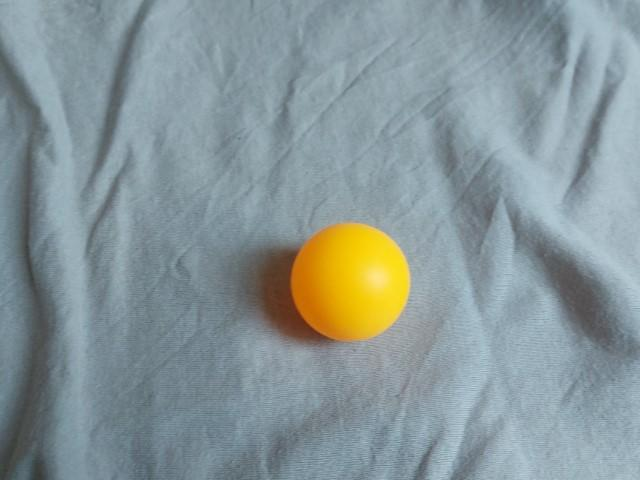oball: (283, 217, 423, 352)
